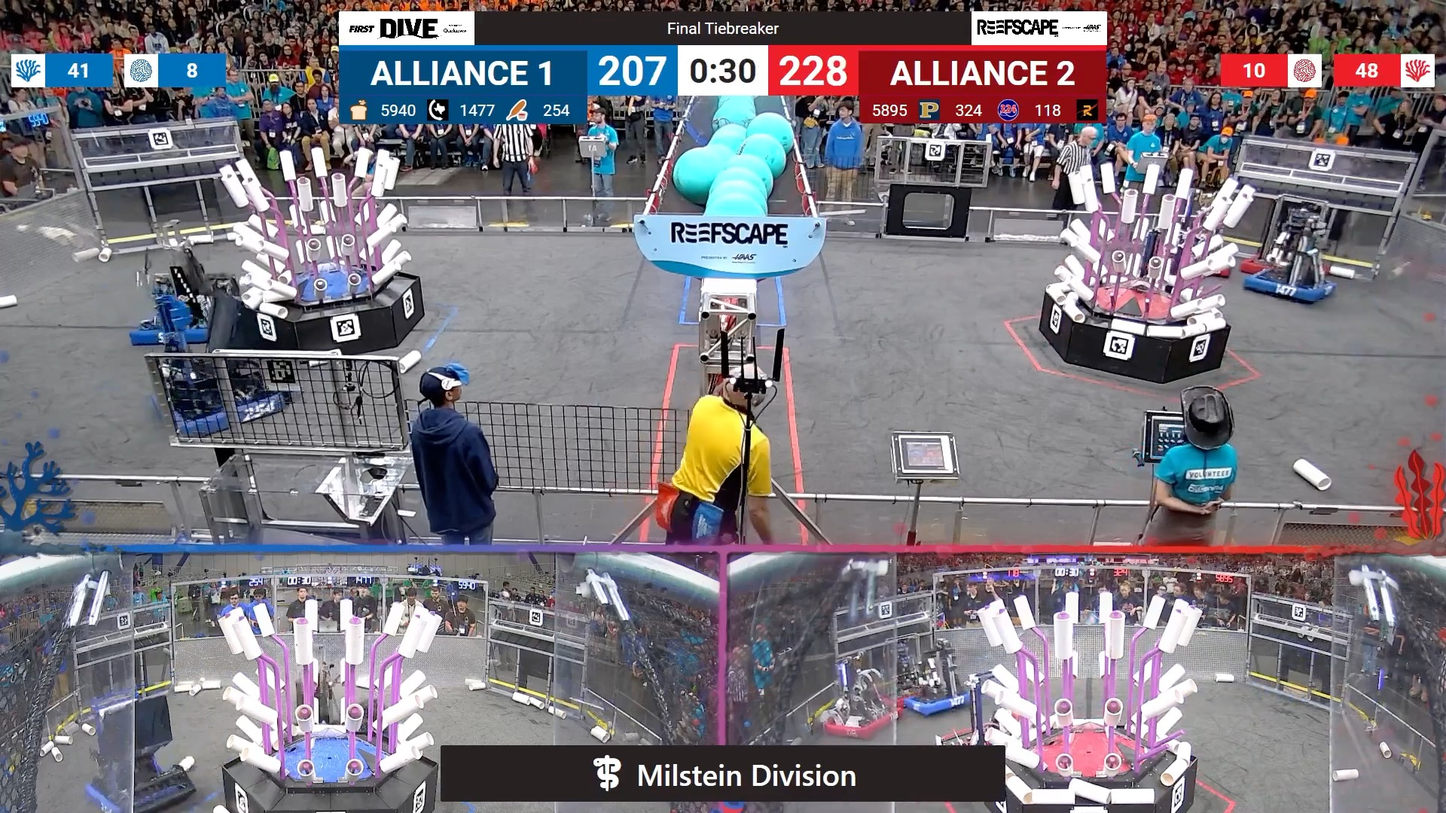bumpers: (158, 374, 294, 440), (79, 766, 202, 813), (1233, 267, 1345, 311), (130, 304, 221, 351), (894, 687, 980, 720), (817, 708, 904, 738)
